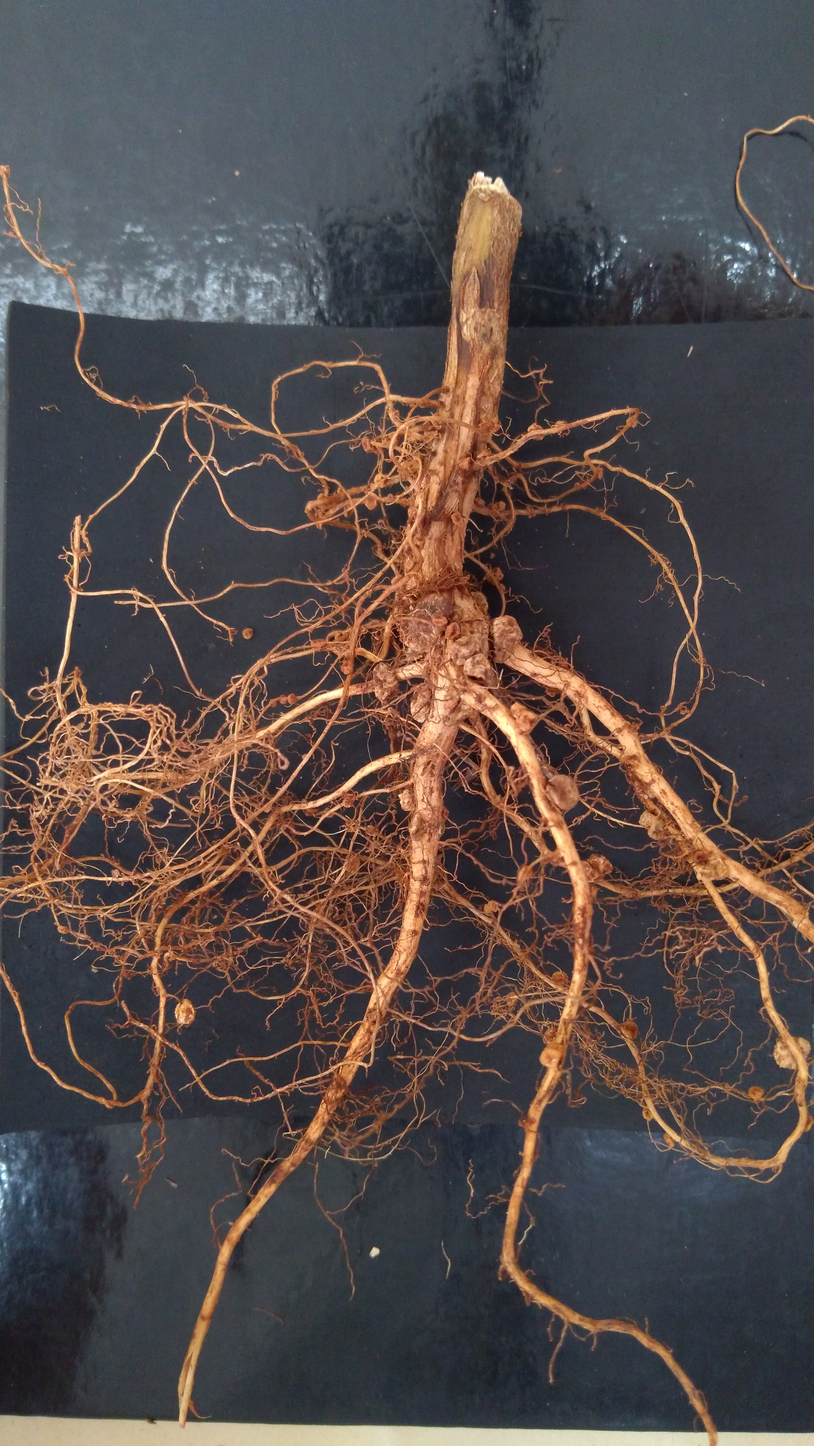nodule: (403, 592, 455, 653), (485, 614, 529, 665), (763, 1031, 812, 1074), (543, 770, 586, 816), (689, 845, 733, 886), (369, 659, 401, 706), (406, 680, 437, 727), (635, 807, 670, 844), (576, 852, 614, 886), (461, 653, 497, 686), (534, 1039, 575, 1067), (170, 995, 201, 1032), (615, 1014, 644, 1046), (513, 706, 540, 736), (341, 849, 365, 880), (396, 456, 424, 482), (745, 1081, 772, 1104), (535, 1021, 561, 1044), (514, 863, 538, 887), (395, 787, 417, 813), (660, 1128, 682, 1153), (469, 589, 490, 614), (363, 489, 384, 513), (527, 420, 547, 444), (359, 432, 377, 458), (484, 564, 505, 586), (441, 621, 462, 641), (550, 967, 571, 987), (508, 698, 527, 719), (637, 1104, 658, 1123), (338, 791, 360, 809), (365, 823, 386, 841), (382, 429, 400, 449), (491, 996, 515, 1011), (481, 898, 501, 915), (337, 659, 356, 676), (542, 685, 562, 701), (374, 472, 391, 490), (428, 413, 445, 430), (429, 614, 450, 627), (447, 510, 465, 525), (470, 492, 485, 509), (241, 626, 256, 642), (302, 806, 319, 820), (322, 803, 336, 819), (506, 991, 519, 1007), (309, 638, 329, 648), (266, 696, 279, 710), (494, 499, 507, 511), (278, 693, 290, 706), (287, 693, 299, 705), (56, 925, 72, 934), (526, 505, 536, 519), (596, 466, 605, 480), (574, 482, 581, 491)
